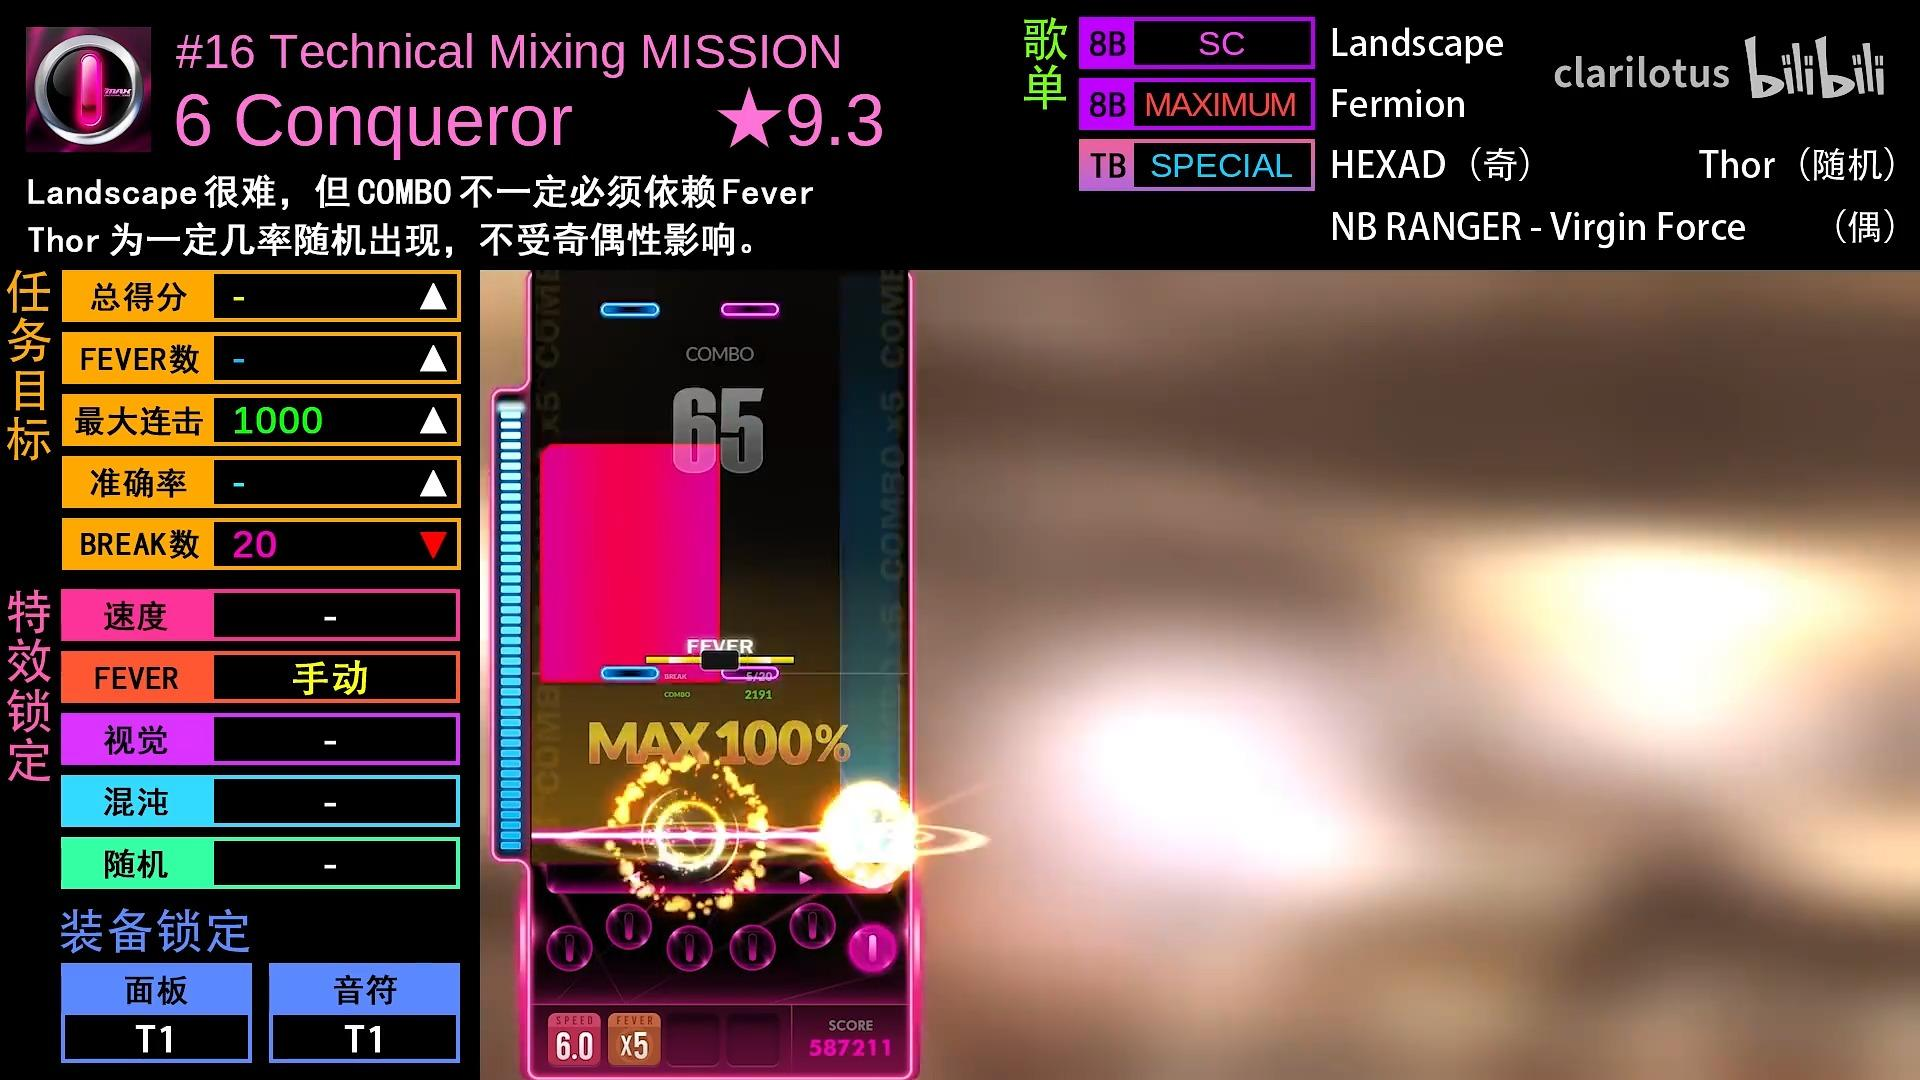note: (600, 662, 661, 682), (600, 301, 662, 319), (719, 301, 781, 319), (720, 665, 781, 683)
xend: (539, 443, 720, 465)
xstart: (539, 663, 721, 682)
